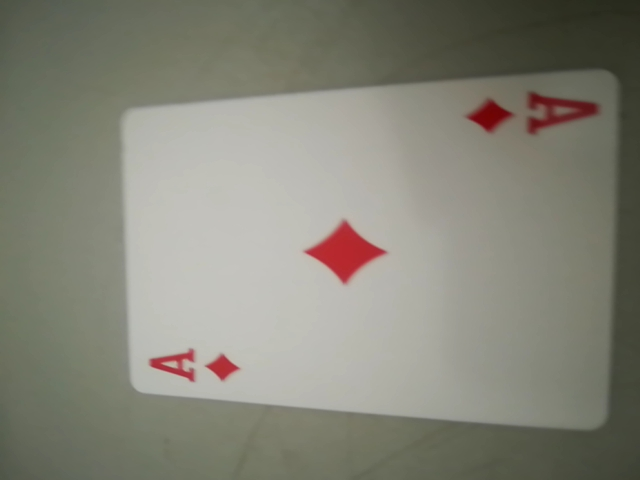fk a: (461, 84, 602, 144), (142, 337, 256, 393)
